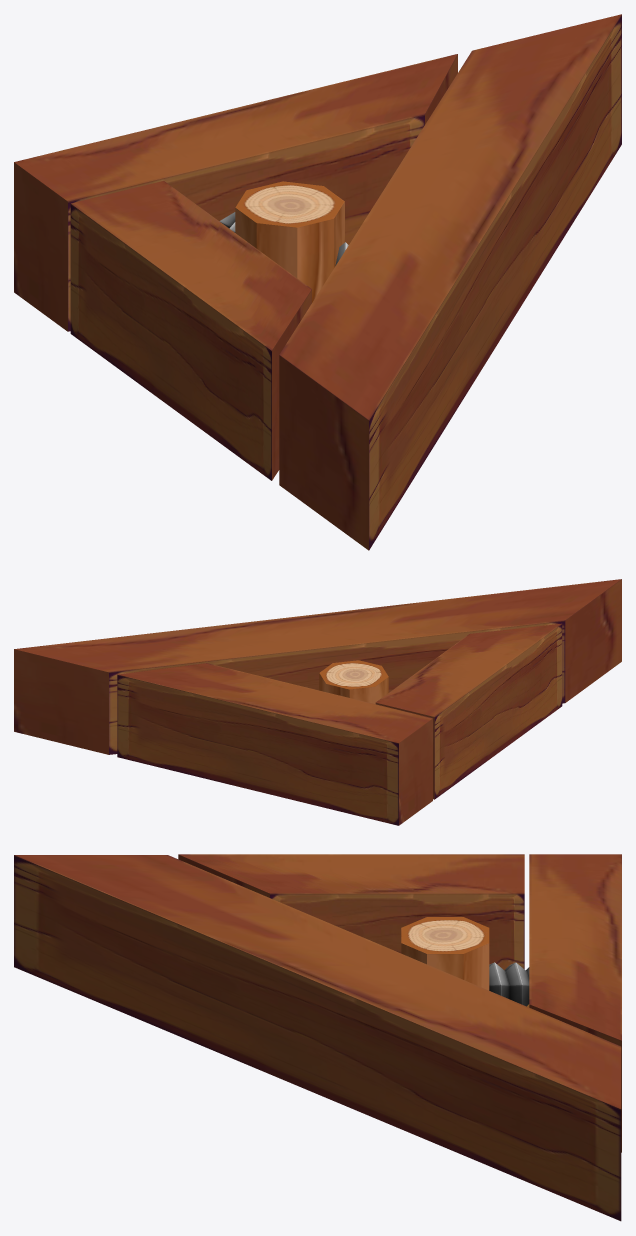
File: triangle_wood_02.fbx
The picture shows the model from 3 angles, top to bottom: view 1: azimuth 30°, elevation 25°; view 2: azimuth 150°, elevation 25°; view 3: azimuth 270°, elevation 25°; orthographic projection. The views are drawn at different scales.
Parts seen in each view (by area): view 1: wall_70, wall_72, wall_71, Middle_6; view 2: wall_70, wall_71, wall_72, Middle_6; view 3: wall_70, wall_72, wall_71, Middle_6, spring_5.
Boxes of the visible parts, left/top/right/bottom form: wall_70: left=279, top=14, right=621, bottom=550; wall_72: left=70, top=181, right=311, bottom=480; wall_71: left=14, top=54, right=457, bottom=331; Middle_6: left=235, top=181, right=344, bottom=302; wall_70: left=14, top=579, right=621, bottom=754; wall_71: left=117, top=663, right=432, bottom=825; wall_72: left=375, top=623, right=562, bottom=799; Middle_6: left=319, top=660, right=388, bottom=704; wall_70: left=14, top=855, right=621, bottom=1221; wall_72: left=178, top=854, right=524, bottom=970; wall_71: left=529, top=854, right=621, bottom=1152; Middle_6: left=401, top=917, right=489, bottom=990; spring_5: left=489, top=962, right=529, bottom=1006.
Size of the model in its own units: 195 by 40 by 197.
